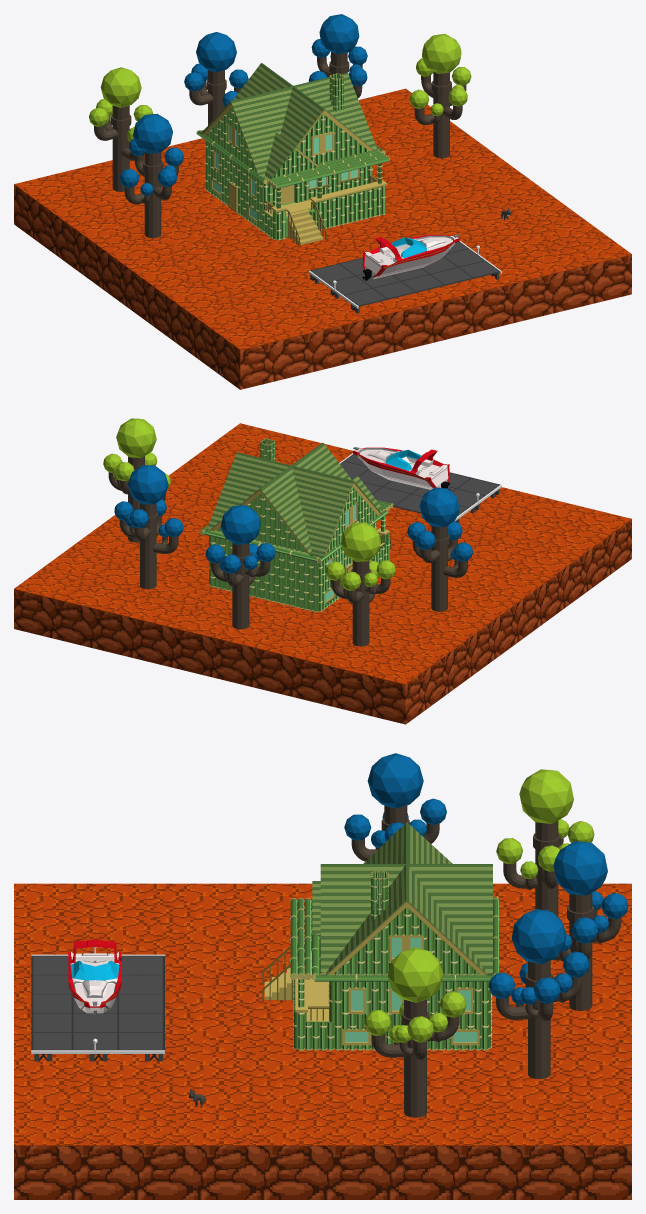
The picture shows the model from 3 angles, top to bottom: view 1: azimuth 30°, elevation 25°; view 2: azimuth 150°, elevation 25°; view 3: azimuth 270°, elevation 25°; orthographic projection. The views are drawn at different scales.
Parts seen in each view (by area): view 1: Cube.001, Cube.1327, VEHICLES_BOAT; view 2: Cube.001, Cube.1327, VEHICLES_BOAT; view 3: Cube.001, Cube.1327, VEHICLES_BOAT.
Part boxes in pixels (box(x1,y1,x2,y2)): Cube.001: box(14, 14, 631, 389); Cube.1327: box(196, 63, 389, 246); VEHICLES_BOAT: box(362, 234, 459, 280); Cube.001: box(14, 418, 631, 724); Cube.1327: box(199, 438, 393, 612); VEHICLES_BOAT: box(353, 447, 450, 490); Cube.001: box(14, 753, 631, 1199); Cube.1327: box(262, 822, 499, 1050); VEHICLES_BOAT: box(68, 940, 121, 1014).
Bounding box in the file's own units: 4000 × 1680 × 4000.
26 materials, 5 textured.
